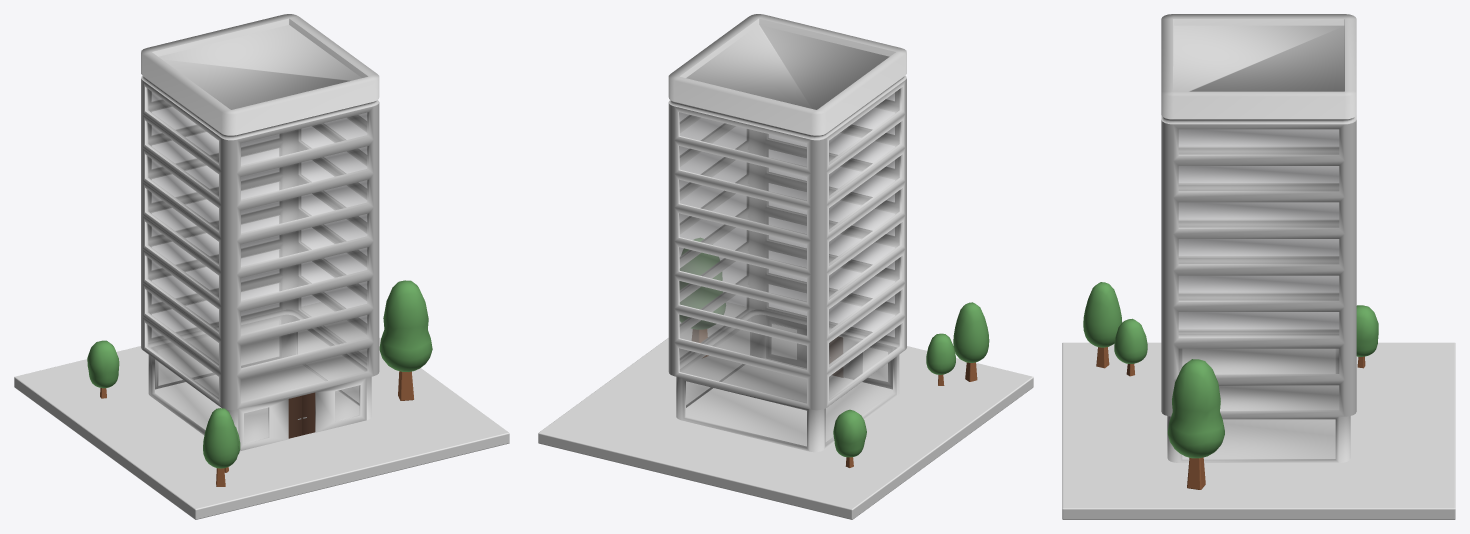
The model's file is building.gltf.
3 views of the same model, side by side, from view 1: azimuth 30°, elevation 25°; view 2: azimuth 150°, elevation 25°; view 3: azimuth 270°, elevation 25° (orthographic). The views are drawn at different scales.
Visible parts, largest first — view 1: Building bottom, Ground, Tree.002, Tree, Tree.003; view 2: Building bottom, Ground, Tree, Tree.002, Tree.003, Tree.001; view 3: Building bottom, Ground, Tree.002, Tree, Tree.001, Tree.003.
Boxes of the visible parts, x1,y1,x2,y2 form: Building bottom: [141, 14, 379, 451]; Ground: [14, 302, 509, 519]; Tree.002: [379, 280, 432, 400]; Tree: [203, 408, 238, 486]; Tree.003: [87, 340, 119, 398]; Building bottom: [668, 14, 906, 452]; Ground: [538, 302, 1033, 519]; Tree: [953, 302, 989, 381]; Tree.002: [680, 238, 725, 357]; Tree.003: [833, 409, 866, 467]; Tree.001: [926, 333, 955, 385]; Building bottom: [1161, 14, 1356, 462]; Ground: [1062, 342, 1455, 519]; Tree.002: [1167, 359, 1224, 489]; Tree: [1083, 282, 1122, 368]; Tree.001: [1114, 318, 1147, 376]; Tree.003: [1356, 305, 1378, 368].
Size of the model in its own units: 20.15 by 21.51 by 20.15.
